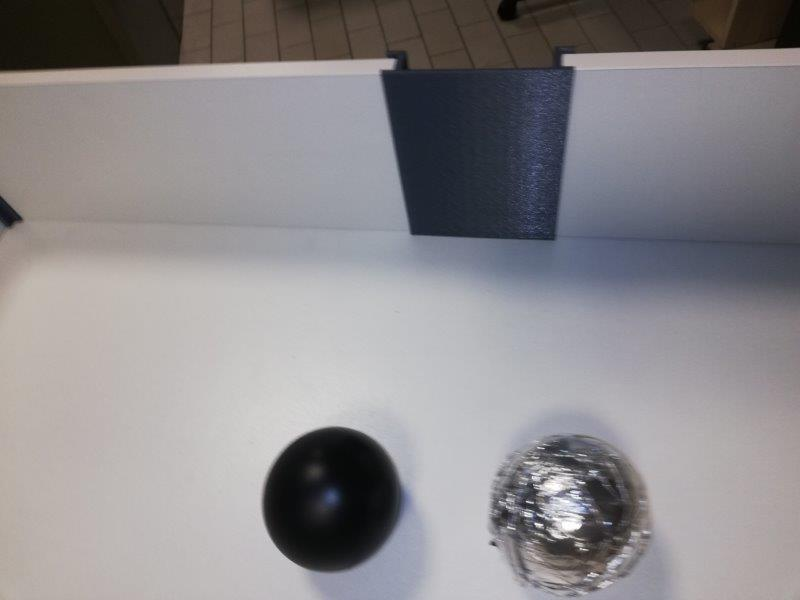bianca: (487, 429, 654, 596)
nera: (262, 426, 401, 574)
